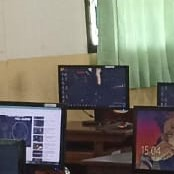monitor: (0, 105, 65, 174), (57, 65, 130, 110), (132, 107, 174, 173), (157, 82, 174, 107)
